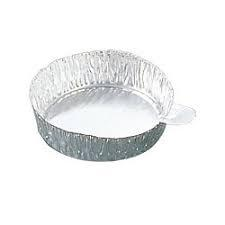metal: (29, 49, 197, 162)
